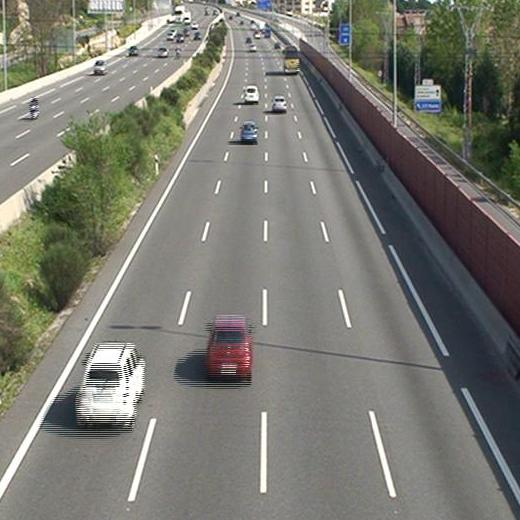bus: (284, 46, 300, 74)
car: (74, 344, 147, 431), (206, 317, 252, 379), (241, 121, 258, 142), (244, 85, 260, 102), (271, 96, 287, 111)
